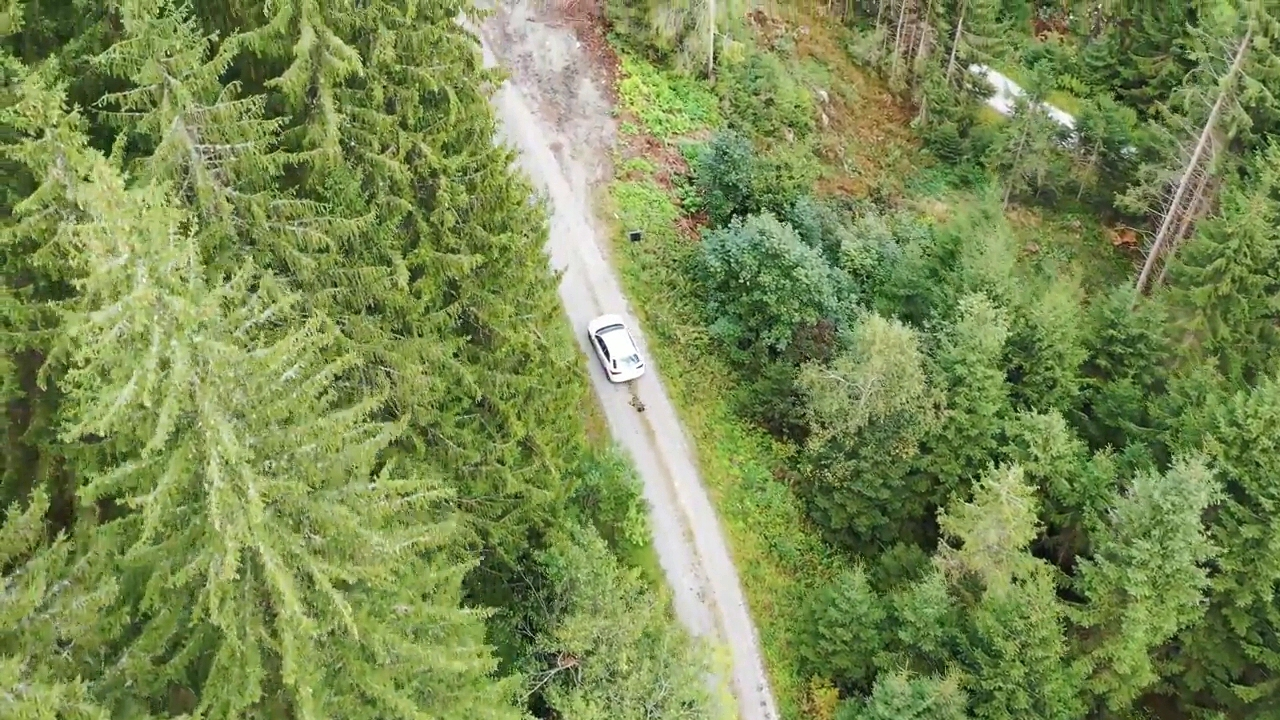araba: (585, 313, 648, 385)
